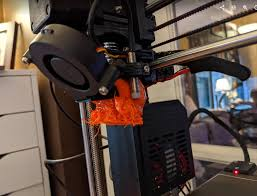fail: (78, 94, 148, 131)
